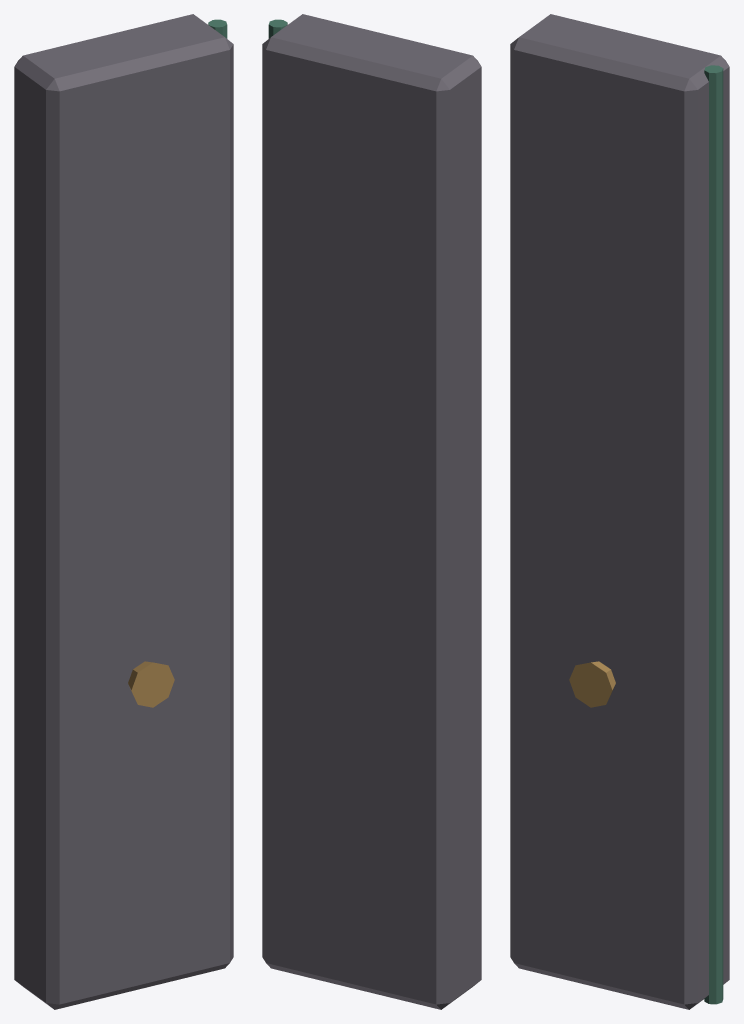
The model's file is Bld_Lab_FoldWall_4m_Panel2.glb.
3 renders of one model, left to right at view 1: azimuth 30°, elevation 25°; view 2: azimuth 150°, elevation 25°; view 3: azimuth 330°, elevation 25°, orthographic.
Parts seen in each view (by area): view 1: Bld_Lab_FoldWall_4m_Panel2; view 2: Bld_Lab_FoldWall_4m_Panel2; view 3: Bld_Lab_FoldWall_4m_Panel2.
Part boxes in pixels (box(x1,y1,x2,y2)): Bld_Lab_FoldWall_4m_Panel2: box(14, 14, 233, 1009); Bld_Lab_FoldWall_4m_Panel2: box(262, 14, 481, 1009); Bld_Lab_FoldWall_4m_Panel2: box(510, 14, 729, 1009).
Size of what is drawn, in the model's own units: 0.815 by 3.7 by 0.36.
